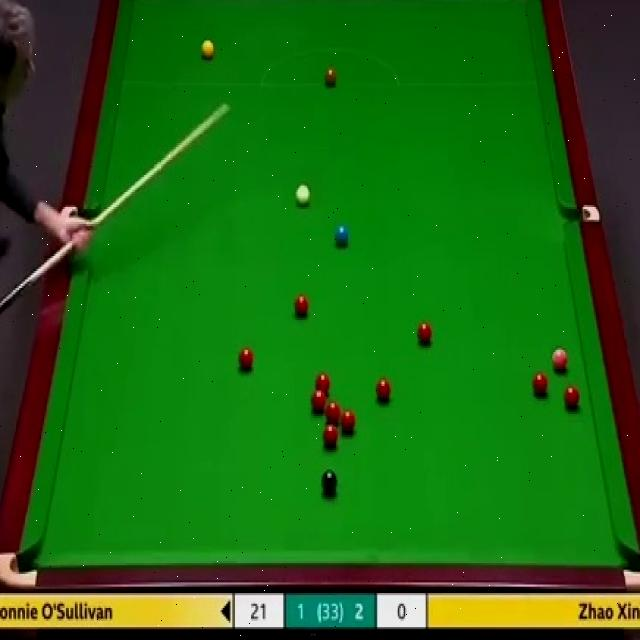black-ball: (320, 470, 338, 491)
blue-ball: (336, 222, 349, 247)
brown-ball: (323, 67, 339, 86)
pink-ball: (551, 347, 568, 377)
red-ball: (376, 376, 393, 405), (562, 384, 579, 411), (340, 408, 356, 434), (530, 371, 548, 394), (293, 295, 311, 318), (322, 424, 338, 448), (238, 347, 253, 372), (311, 390, 326, 415), (326, 404, 342, 426), (315, 373, 330, 396), (418, 321, 432, 345)
white-ball: (295, 182, 312, 207)
yellow-ball: (201, 38, 215, 61)
